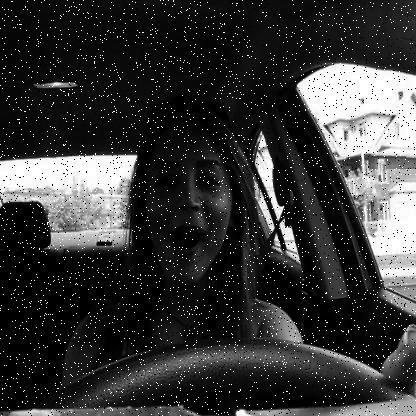seatbelt: (118, 89, 296, 345)
